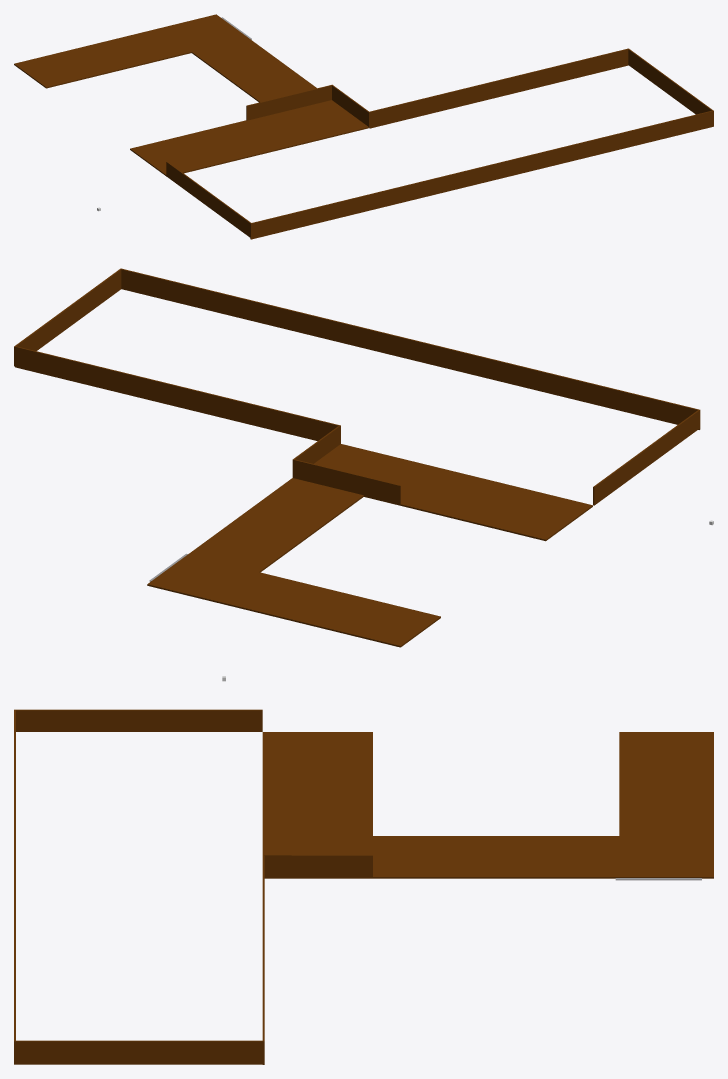
File: Boardwalk.fbx
3 views of the same model, one above another, from view 1: azimuth 30°, elevation 25°; view 2: azimuth 150°, elevation 25°; view 3: azimuth 270°, elevation 25° (orthographic). The views are drawn at different scales.
Parts seen in each view (by area): view 1: BoardwalkMain1; view 2: BoardwalkMain1; view 3: BoardwalkMain1.
Part boxes in pixels (x1,y1,x2,y2): BoardwalkMain1: (14, 14, 713, 239); BoardwalkMain1: (14, 268, 700, 647); BoardwalkMain1: (14, 709, 713, 1064).
Size of the model in its own units: 46825 by 1600 by 35475.
